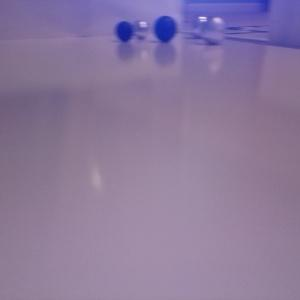alive_ball: (201, 17, 226, 44), (188, 15, 213, 38), (134, 20, 150, 39)
dead_ball: (154, 16, 177, 42), (116, 21, 134, 42)
